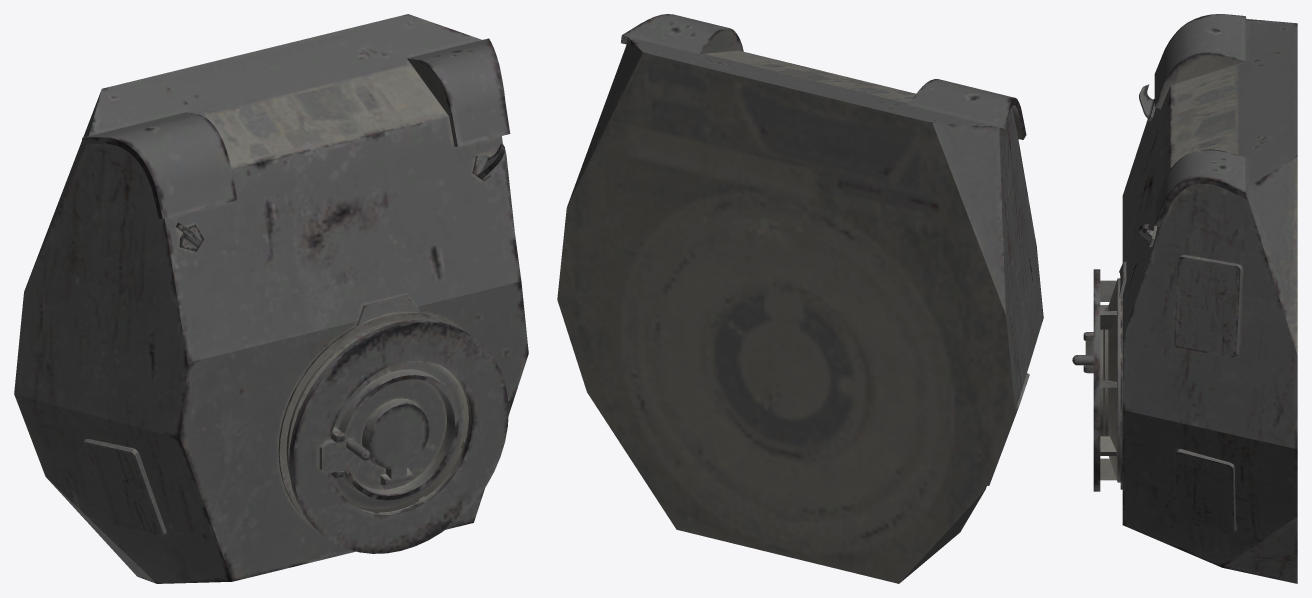
File: Turret_02.glb
The picture shows the model from 3 angles, left to right: view 1: azimuth 30°, elevation 25°; view 2: azimuth 150°, elevation 25°; view 3: azimuth 270°, elevation 25°; orthographic projection. The views are drawn at different scales.
Visible parts, largest first — view 1: set_0_group_0; view 2: set_0_group_0; view 3: set_0_group_0.
Boxes of the visible parts, left/top/right/bottom form: set_0_group_0: left=14, top=14, right=528, bottom=583; set_0_group_0: left=557, top=14, right=1043, bottom=583; set_0_group_0: left=1072, top=14, right=1297, bottom=583.
Bounding box in the file's own units: 1.58 × 1.54 × 0.7114.
1 material, 1 textured.
